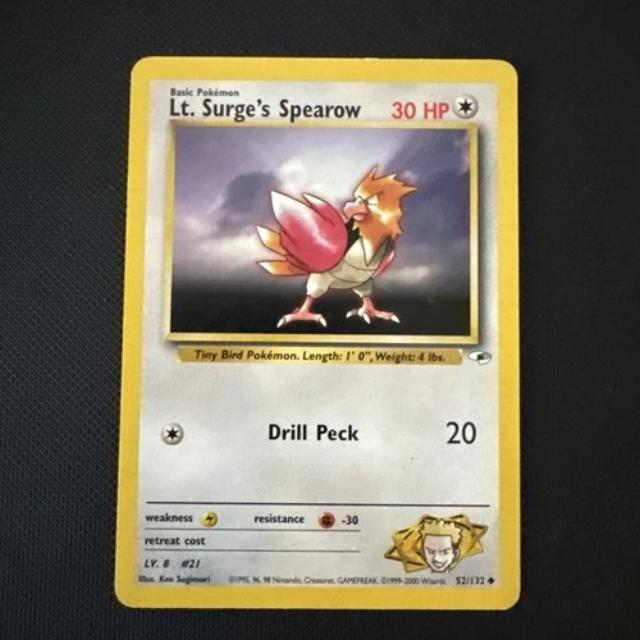Card: (109, 52, 527, 616)
Name: (163, 91, 364, 124)
